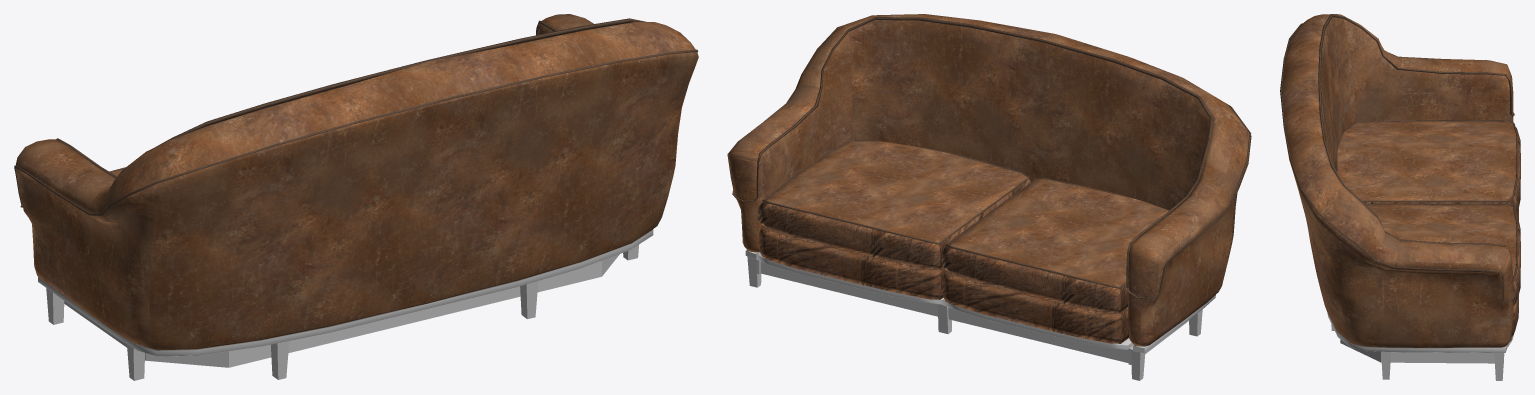
Rendered from SeatADouble.fbx.
3 views of the same model, side by side, from view 1: azimuth 30°, elevation 25°; view 2: azimuth 150°, elevation 25°; view 3: azimuth 270°, elevation 25° (orthographic). The views are drawn at different scales.
Parts seen in each view (by area): view 1: SeatADouble; view 2: SeatADouble; view 3: SeatADouble.
Boxes of the visible parts, left/top/right/bottom form: SeatADouble: left=14, top=14, right=698, bottom=380; SeatADouble: left=727, top=14, right=1251, bottom=380; SeatADouble: left=1280, top=14, right=1520, bottom=380.
Size of the model in its own units: 242 by 118 by 121.
